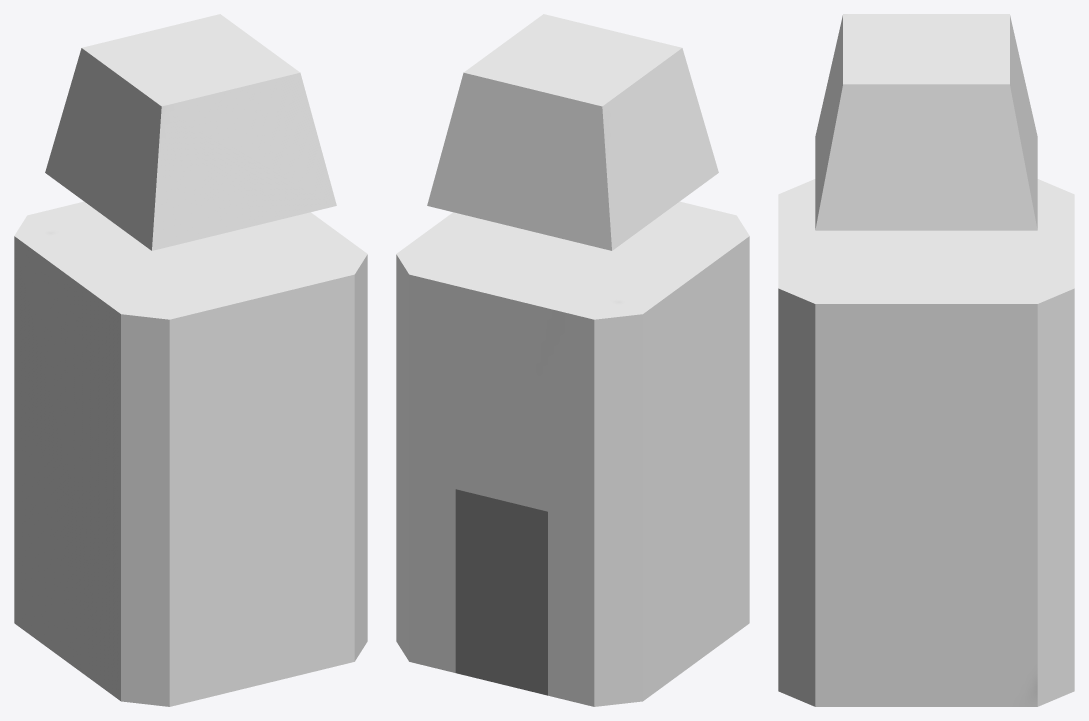
The model's file is enemyBodySS01.obj.
3 views of the same model, side by side, from view 1: azimuth 30°, elevation 25°; view 2: azimuth 150°, elevation 25°; view 3: azimuth 270°, elevation 25° (orthographic). The views are drawn at different scales.
Parts seen in each view (by area): view 1: 小型空中敵; view 2: 小型空中敵; view 3: 小型空中敵.
Boxes of the visible parts, x1=… form: 小型空中敵: x1=14, y1=14, x2=367, y2=706; 小型空中敵: x1=396, y1=14, x2=749, y2=706; 小型空中敵: x1=778, y1=14, x2=1074, y2=706.
Size of the model in its own units: 0.75 by 1.66 by 0.75.
1 material, 1 textured.
